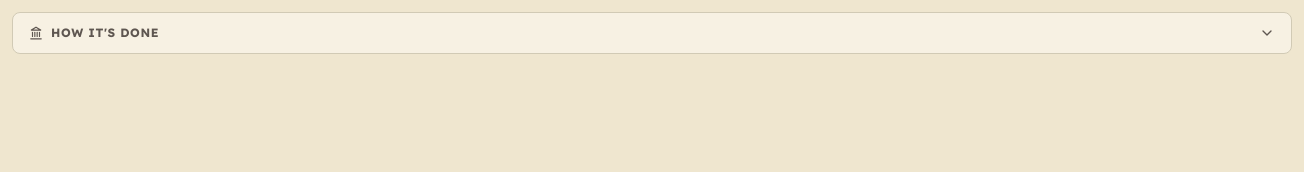
CultureNotes › tolerates a note with no phrases and a phrase with no gloss
Click the button "How it's done". click: (105, 32)
box: top-left (13, 13), bottom-right (1291, 53)
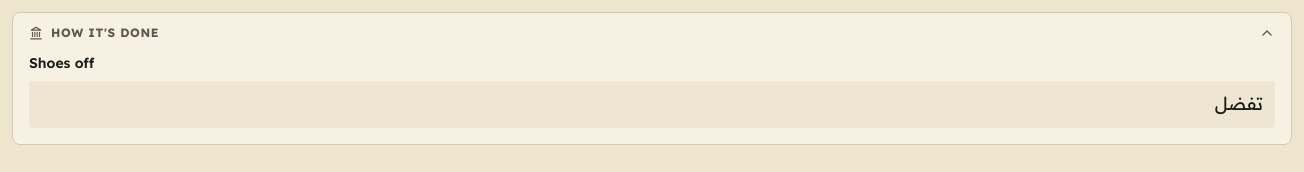
Check: the text "Shoes off" is shown, box top-left (29, 54), bottom-right (94, 72)
Check: the text "تفضل" is shown, box top-left (1215, 92), bottom-right (1263, 115)
